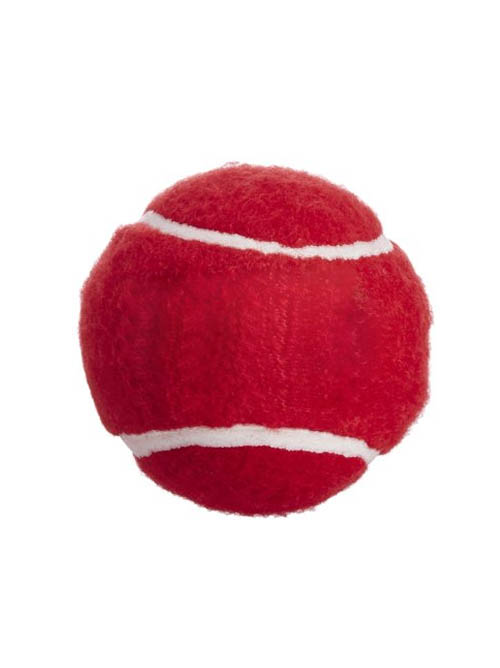red ball: (78, 162, 431, 522)
